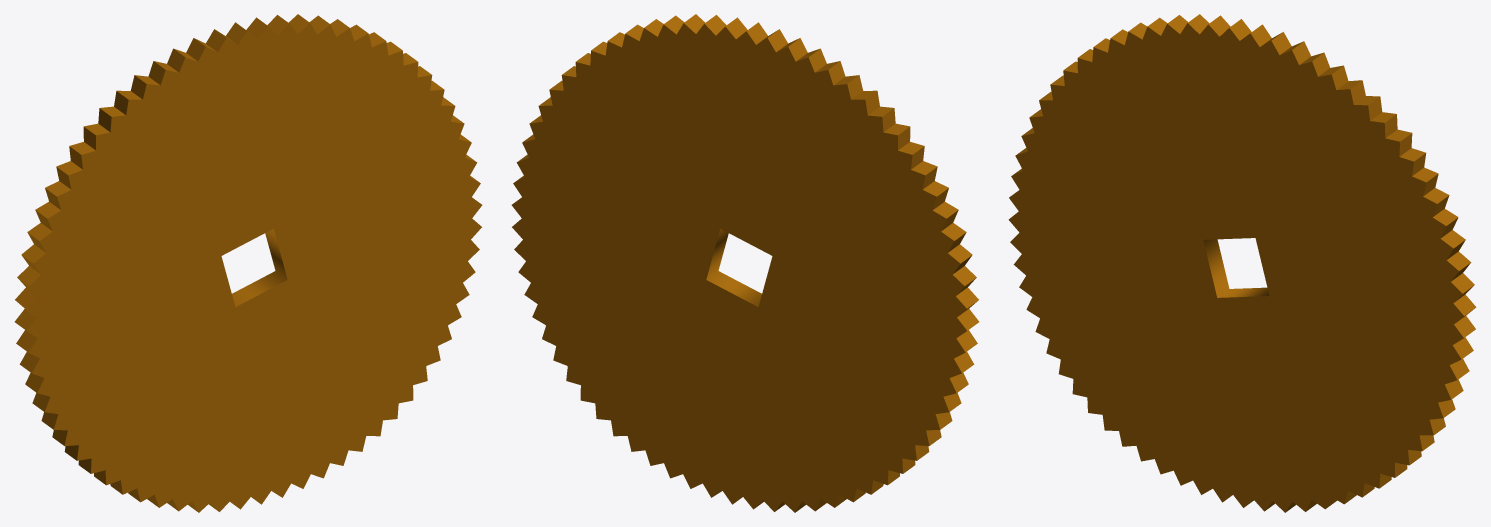
Rendered from Copie de Pi_X2_00e8_X0_ce11^Horloge Comtoise Verge - Sonnerie.obj.
3 renders of one model, left to right at view 1: azimuth 30°, elevation 25°; view 2: azimuth 150°, elevation 25°; view 3: azimuth 330°, elevation 25°, orthographic.
Parts seen in each view (by area): view 1: Face_139, Face_138; view 2: Face_1, Face_138; view 3: Face_139, Face_138.
Boxes of the visible parts, x1,y1,x2,y2 form: Face_139: [27, 23, 482, 512]; Face_138: [232, 229, 287, 306]; Face_1: [511, 23, 966, 512]; Face_138: [706, 229, 761, 306]; Face_139: [1008, 23, 1463, 512]; Face_138: [1203, 239, 1269, 297].
Size of the model in its own units: 0.0194 by 0.0194 by 0.0009.
